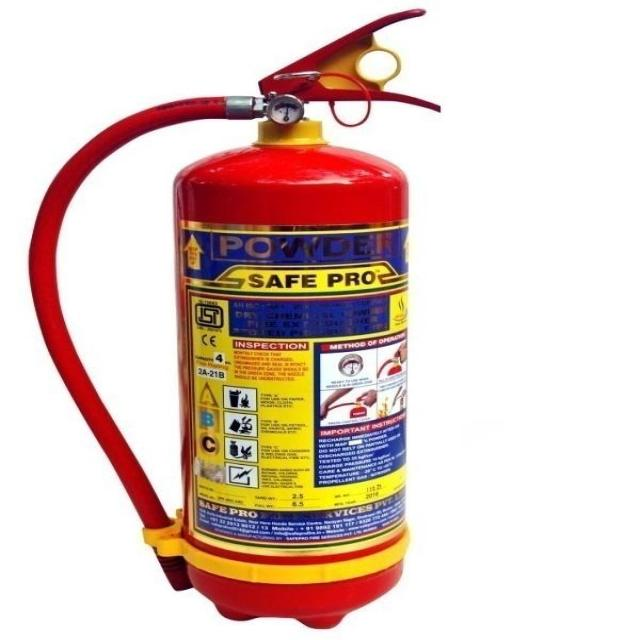fire_extinguisher: (19, 4, 445, 634)
